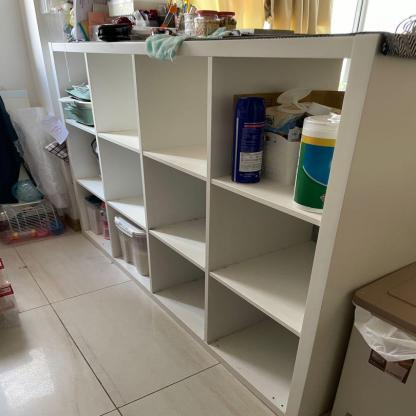lamp: (43, 30, 416, 416)
